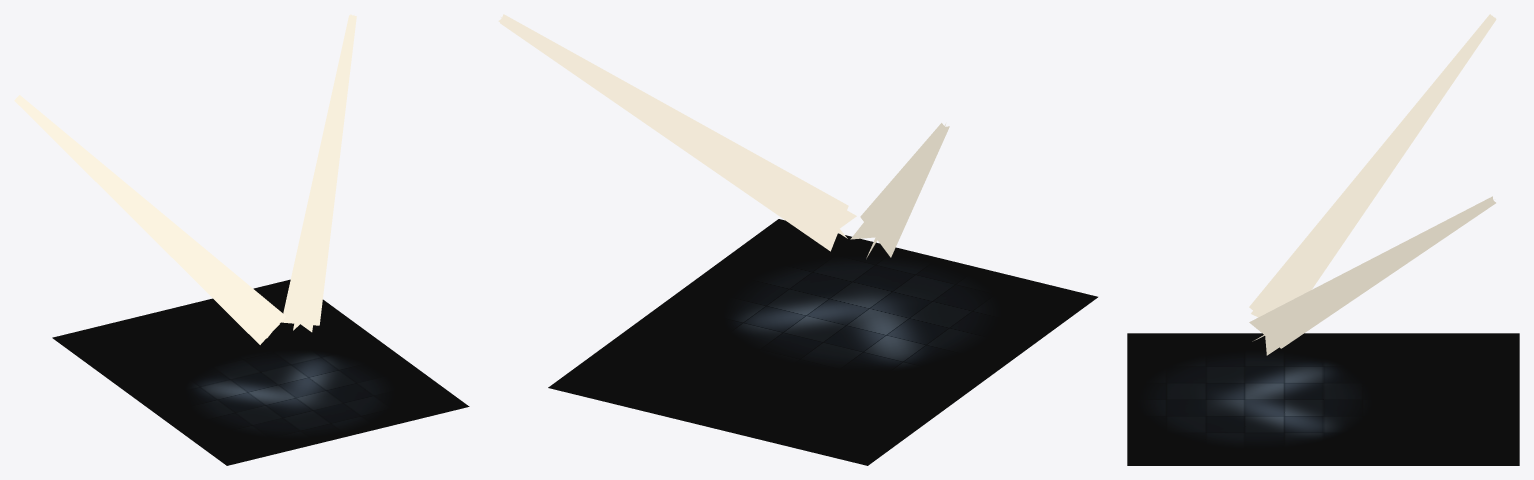
Rendered from neon-spotlight.gltf.
3 views of the same model, side by side, from view 1: azimuth 30°, elevation 25°; view 2: azimuth 150°, elevation 25°; view 3: azimuth 270°, elevation 25° (orthographic). The views are drawn at different scales.
Visible parts, largest first — view 1: Baked floor and two light shafts without visible fixtures; view 2: Baked floor and two light shafts without visible fixtures; view 3: Baked floor and two light shafts without visible fixtures.
Part boxes in pixels (<box>): Baked floor and two light shafts without visible fixtures: <box>14,14,469,465</box>; Baked floor and two light shafts without visible fixtures: <box>498,14,1097,465</box>; Baked floor and two light shafts without visible fixtures: <box>1127,14,1519,465</box>.
Size of the model in its own units: 8.44 by 6.2 by 7.5.
Materials: 2 (2 with a texture image).
